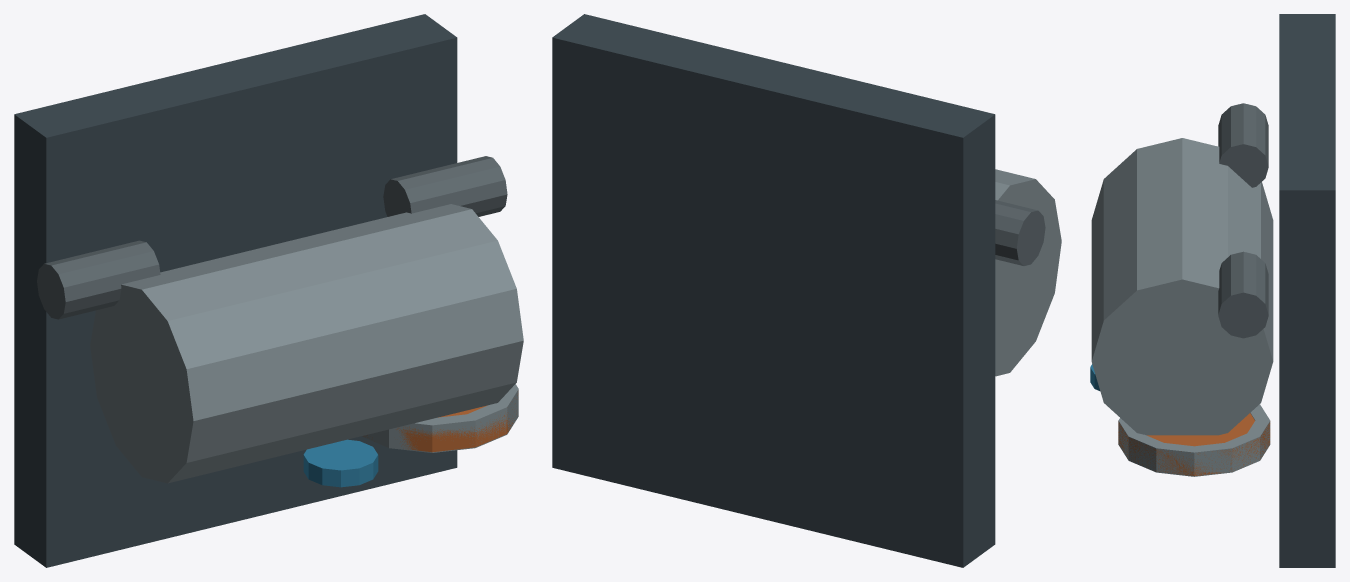
File: Steam-Compressor.obj
3 views of the same model, side by side, from view 1: azimuth 30°, elevation 25°; view 2: azimuth 150°, elevation 25°; view 3: azimuth 270°, elevation 25° (orthographic). The views are drawn at different scales.
Visible parts, largest first — view 1: Steam-Compressor_machine_base, Steam-Compressor_pressure_vessel, Steam-Compressor_inlet_pipe, Steam-Compressor_outlet_pipe, Steam-Compressor_flywheel_rim, Steam-Compressor_gauge, Steam-Compressor_flywheel; view 2: Steam-Compressor_machine_base, Steam-Compressor_pressure_vessel, Steam-Compressor_inlet_pipe; view 3: Steam-Compressor_pressure_vessel, Steam-Compressor_machine_base, Steam-Compressor_flywheel_rim, Steam-Compressor_outlet_pipe, Steam-Compressor_inlet_pipe, Steam-Compressor_flywheel.
Part boxes in pixels (<box>): Steam-Compressor_machine_base: <box>14,14,457,567</box>; Steam-Compressor_pressure_vessel: <box>90,204,523,483</box>; Steam-Compressor_inlet_pipe: <box>37,240,160,319</box>; Steam-Compressor_outlet_pipe: <box>383,156,507,216</box>; Steam-Compressor_flywheel_rim: <box>361,384,518,452</box>; Steam-Compressor_gauge: <box>303,439,378,487</box>; Steam-Compressor_flywheel: <box>363,393,518,452</box>; Steam-Compressor_machine_base: <box>552,14,995,567</box>; Steam-Compressor_pressure_vessel: <box>995,169,1061,376</box>; Steam-Compressor_inlet_pipe: <box>995,200,1045,265</box>; Steam-Compressor_pressure_vessel: <box>1091,138,1273,435</box>; Steam-Compressor_machine_base: <box>1279,14,1335,567</box>; Steam-Compressor_flywheel_rim: <box>1118,404,1270,476</box>; Steam-Compressor_outlet_pipe: <box>1218,251,1268,338</box>; Steam-Compressor_inlet_pipe: <box>1218,103,1268,187</box>; Steam-Compressor_flywheel: <box>1118,413,1270,476</box>.
Size of the model in its own units: 3.01 by 2.8 by 1.65.
